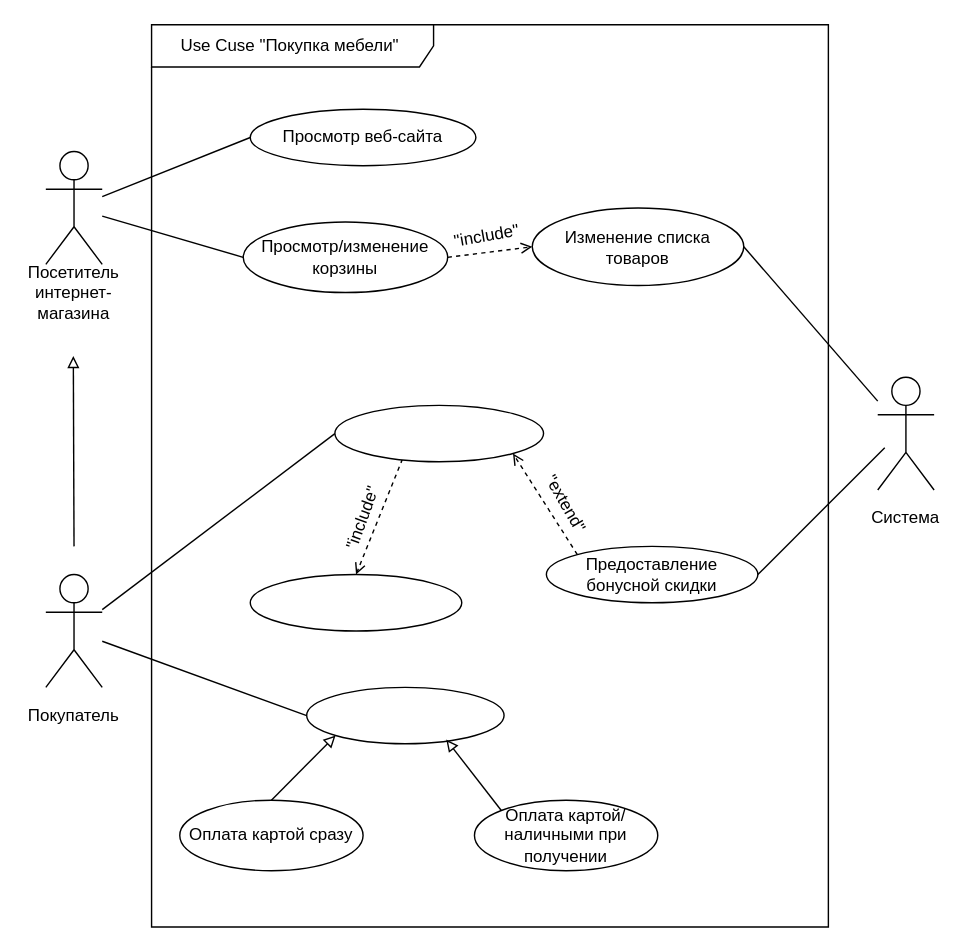
The diagram is 979 pixels wide and 952 high, and some of its shapes have lost their labels. The centre of each missing label's shape, as x and y in pixels:
"Оплата выбранного товара" goes at [404,715].
"Оформление заказа" goes at [438,433].
"Регистрация покупателя" goes at [355,602].
